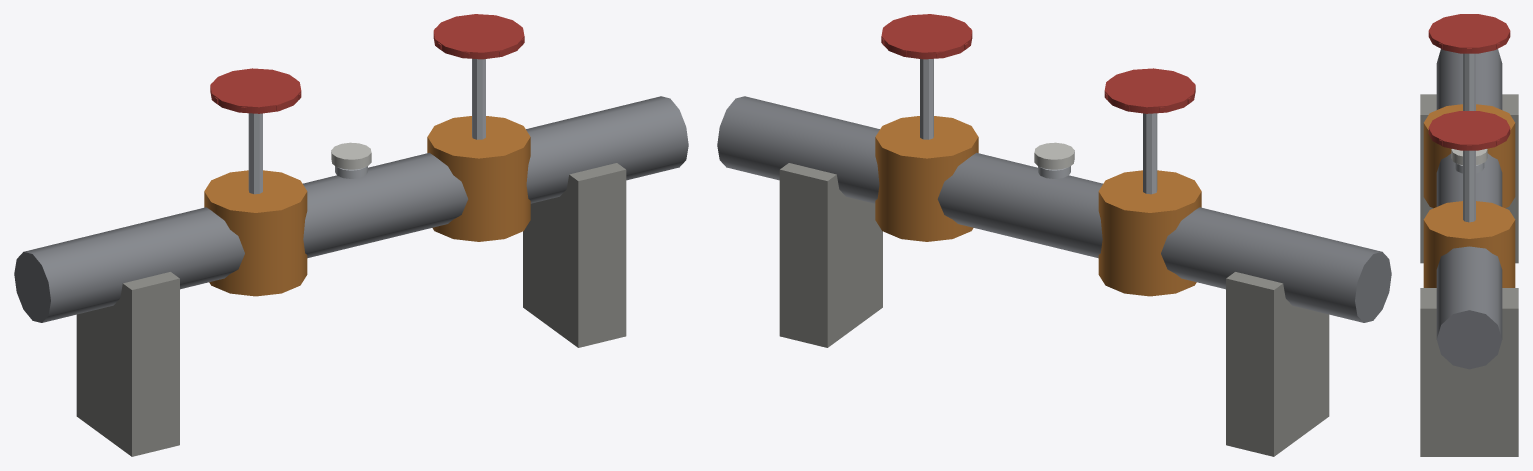
The model's file is pipe_valve_station.glb.
3 views of the same model, side by side, from view 1: azimuth 30°, elevation 25°; view 2: azimuth 150°, elevation 25°; view 3: azimuth 270°, elevation 25° (orthographic). The views are drawn at different scales.
Parts seen in each view (by area): view 1: pipe, saddle, saddle.001, valve_body, valve_body.001, handwheel.001, handwheel, valve_stem, valve_stem.001, gauge; view 2: pipe, saddle, saddle.001, valve_body, valve_body.001, handwheel.001, handwheel, valve_stem, valve_stem.001, gauge; view 3: pipe, saddle.001, valve_body.001, valve_body, handwheel, handwheel.001, saddle, valve_stem.001, valve_stem, gauge, gauge_stub.
Part boxes in pixels (<box>): pipe: <box>14,96,688,322</box>; saddle: <box>76,272,179,456</box>; saddle.001: <box>523,163,626,347</box>; valve_body: <box>204,170,307,296</box>; valve_body.001: <box>427,116,530,241</box>; handwheel.001: <box>433,14,524,59</box>; handwheel: <box>210,68,301,113</box>; valve_stem: <box>248,113,262,194</box>; valve_stem.001: <box>472,58,485,139</box>; gauge: <box>331,142,371,169</box>; pipe: <box>717,96,1391,322</box>; saddle: <box>1226,272,1329,456</box>; saddle.001: <box>779,163,882,347</box>; valve_body: <box>1098,170,1201,296</box>; valve_body.001: <box>875,116,978,241</box>; handwheel.001: <box>881,14,972,59</box>; handwheel: <box>1104,68,1195,113</box>; valve_stem: <box>1143,113,1157,194</box>; valve_stem.001: <box>920,58,933,139</box>; gauge: <box>1034,142,1074,169</box>; pipe: <box>1436,49,1502,369</box>; saddle.001: <box>1420,288,1518,456</box>; valve_body.001: <box>1423,201,1515,287</box>; valve_body: <box>1423,104,1515,208</box>; handwheel: <box>1428,14,1510,53</box>; handwheel.001: <box>1428,111,1510,150</box>; saddle: <box>1420,94,1518,263</box>; valve_stem.001: <box>1463,150,1475,222</box>; valve_stem: <box>1463,53,1475,110</box>; gauge: <box>1451,149,1487,165</box>; gauge_stub: <box>1454,163,1484,173</box>.
Size of what is drawn, in the model's own units: 4 by 1.87 by 0.6.
